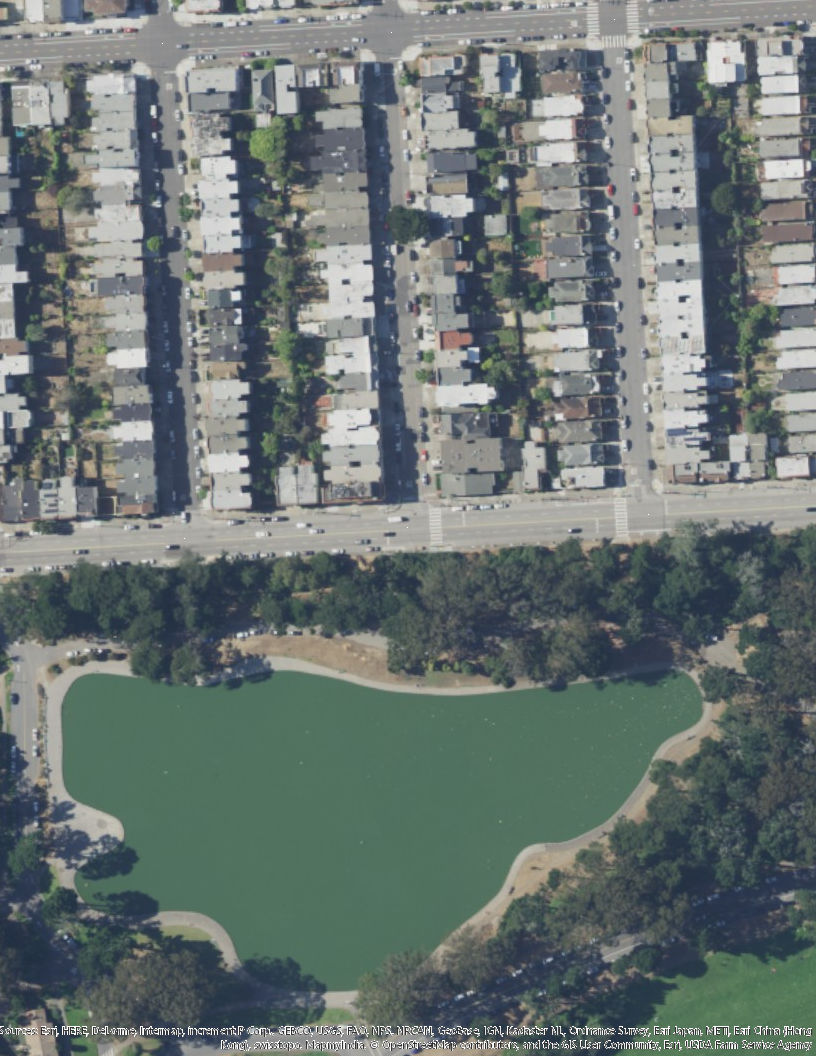zebracross: (427, 508, 443, 545), (613, 499, 628, 537), (625, 1, 640, 34), (585, 3, 598, 37), (602, 34, 628, 48)
